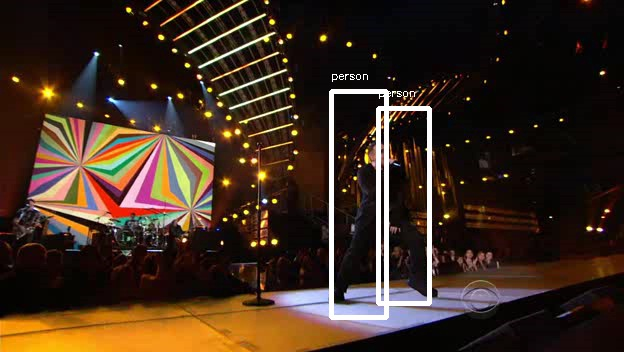person: (350, 145, 417, 261), (347, 145, 414, 261), (353, 145, 420, 261), (350, 142, 417, 258), (350, 148, 417, 264)
target_negative: (129, 177, 477, 340), (206, 229, 500, 327), (18, 27, 213, 158), (66, 1, 113, 235), (512, 28, 544, 325), (72, 332, 415, 343)
